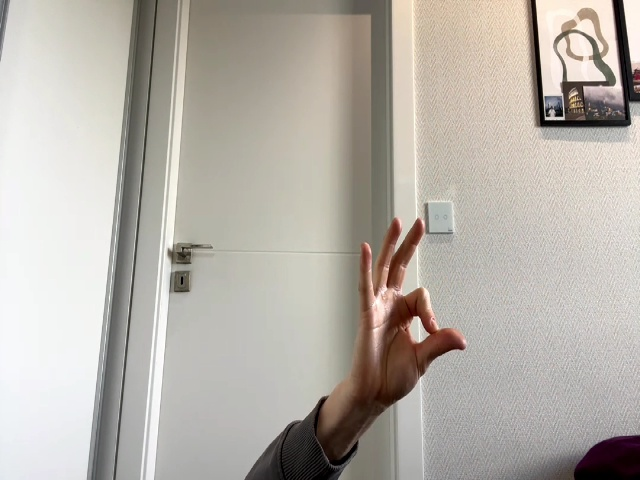S: (349, 217, 467, 402)
